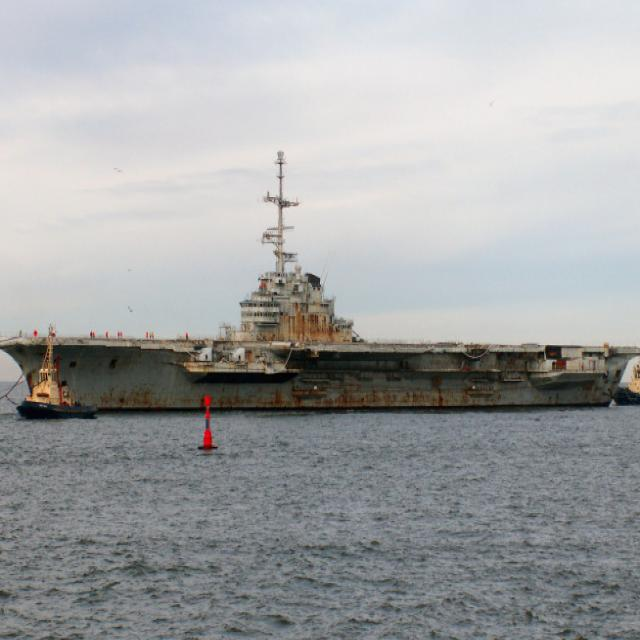Portanaves: (1, 143, 640, 424)
